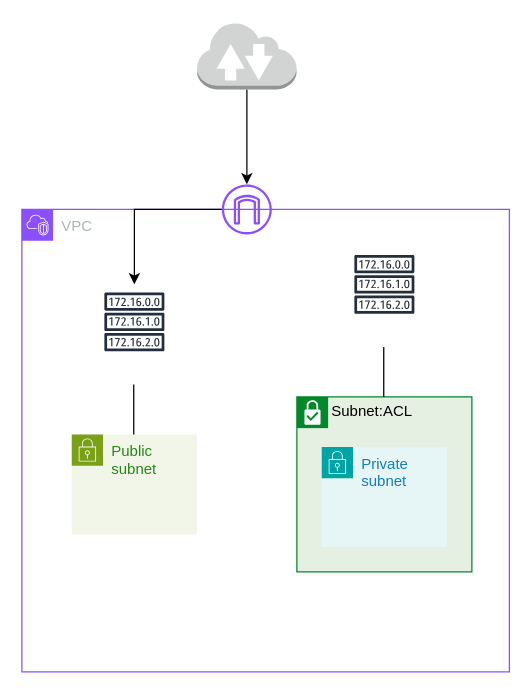
The diagram is 531 pixels wide and 694 high, and some of its shapes have lost their labels. Each missing label, with the centre of its shape:
Private Route table: [384,284]
Public Route table: [134,321]
